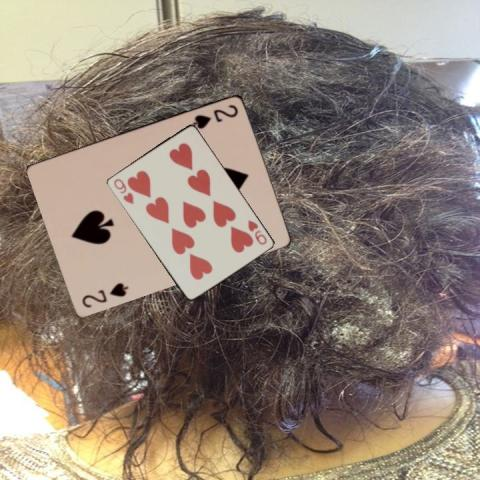2s: (79, 278, 129, 308), (189, 101, 240, 130)
9h: (110, 175, 135, 206), (245, 217, 268, 246)
